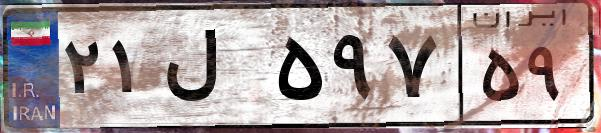1: (110, 28, 158, 98)
2: (57, 26, 110, 100)
5: (270, 28, 330, 110), (475, 38, 525, 113)
7: (385, 28, 445, 110)
9: (330, 28, 385, 110), (525, 38, 570, 115)
ل: (158, 20, 270, 120)
